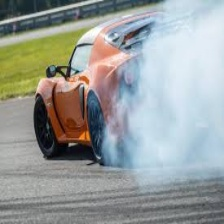smoke: (138, 10, 220, 160)
